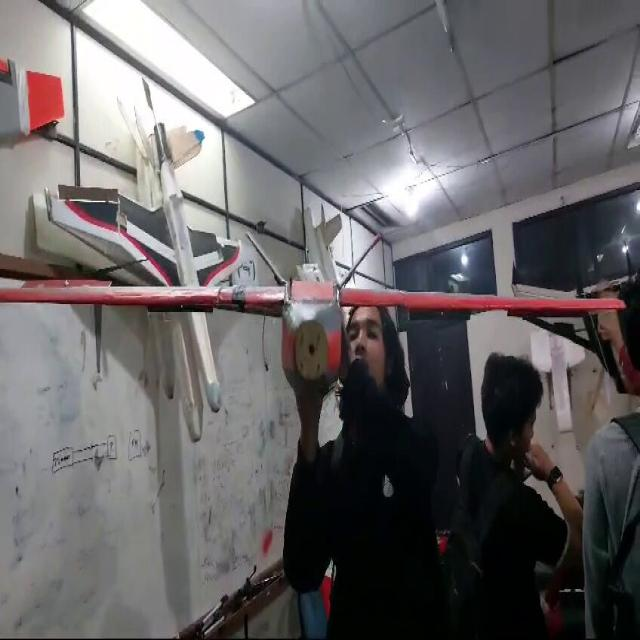plane: (0, 75, 629, 440)
